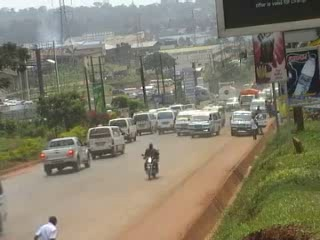Motorcycle: (140, 140, 161, 181)
